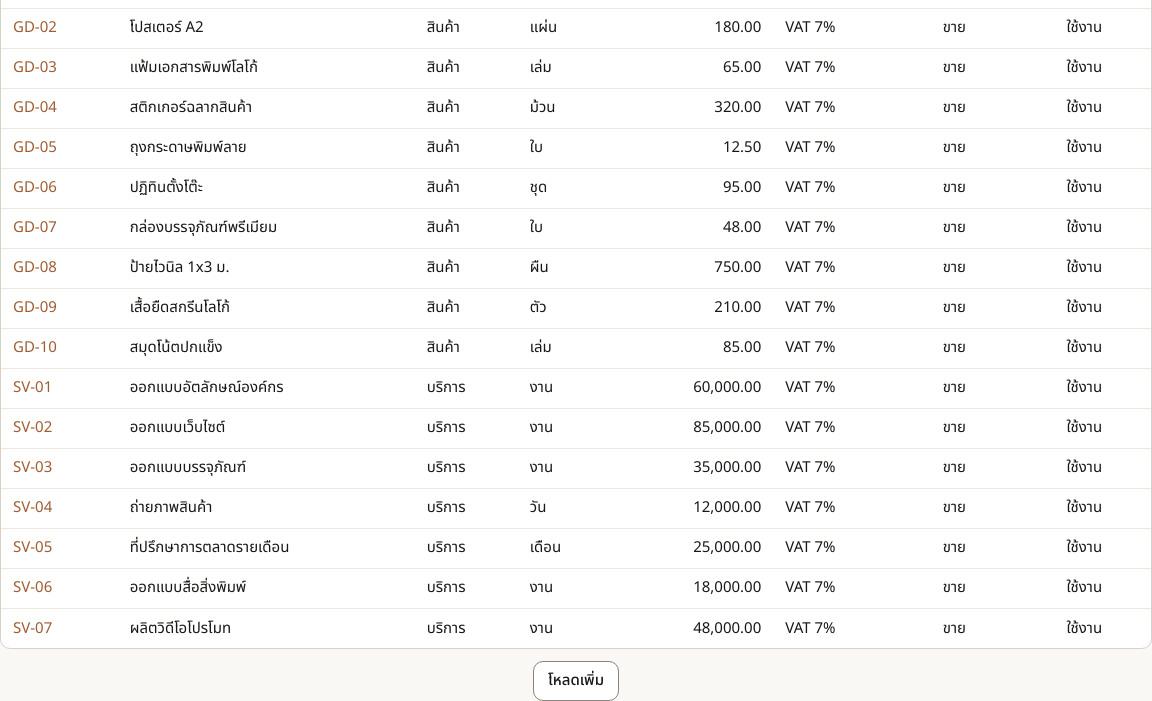
item list and form (a record kind with no detail page) › a 409 in the row dialog: reload fetches the item, keeps the typed values, and the next save carries the fresh version
The image size is (1152, 701).
(page scrolled)
Click the button "SV-03" at (33, 468), box [13,456,52,480]
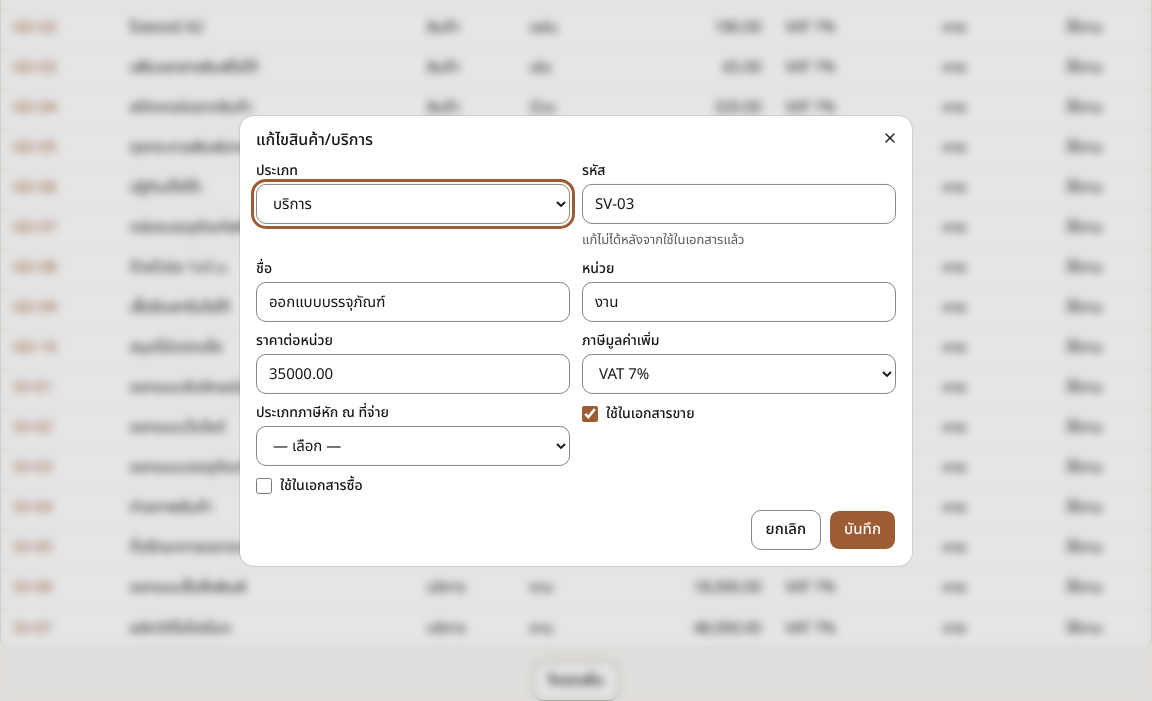
Replace the text in the field labelled "ชื่อ" with "ชื่อที่ฉันพิมพ์" at (413, 302), box [256,282,570,322]
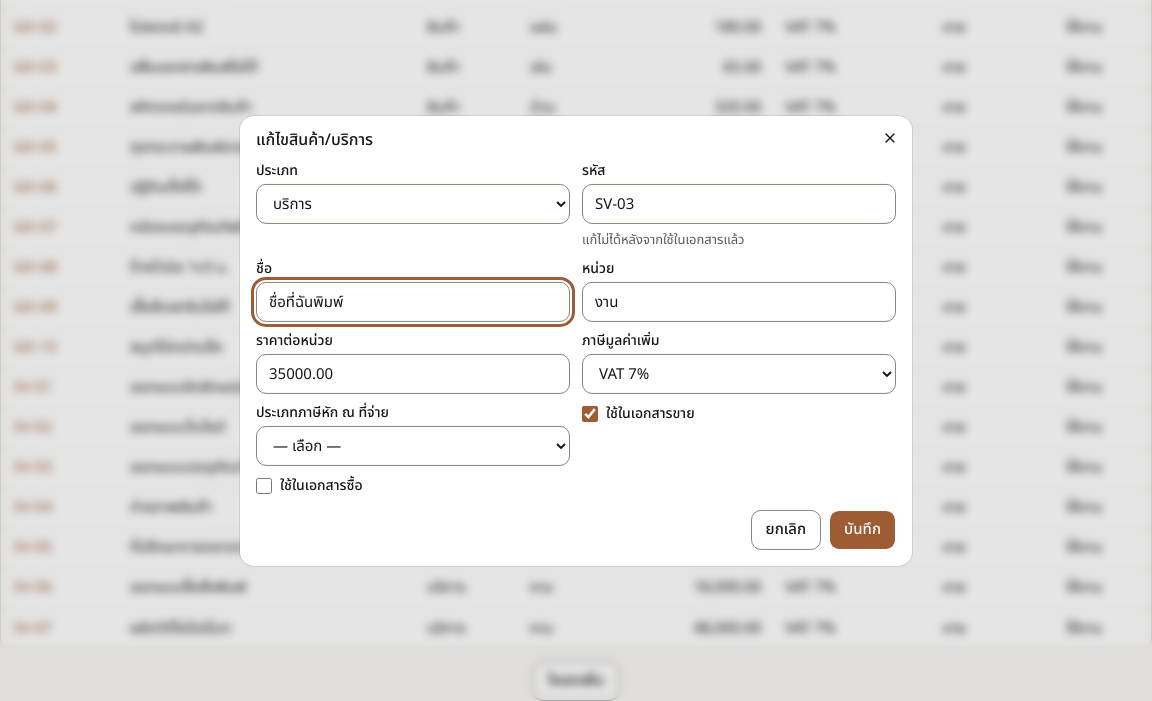
Click the button "บันทึก" at (863, 530), box [829,510,896,550]
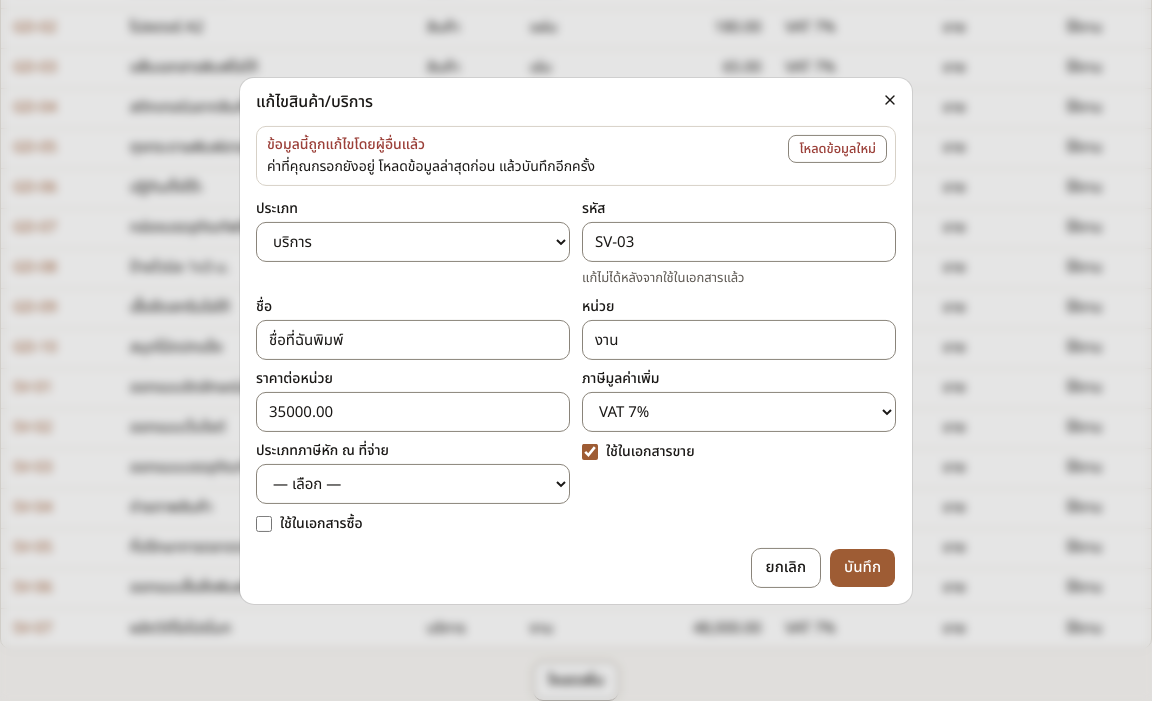
Click the button "โหลดข้อมูลใหม่" at (838, 149), box [788,135,887,163]
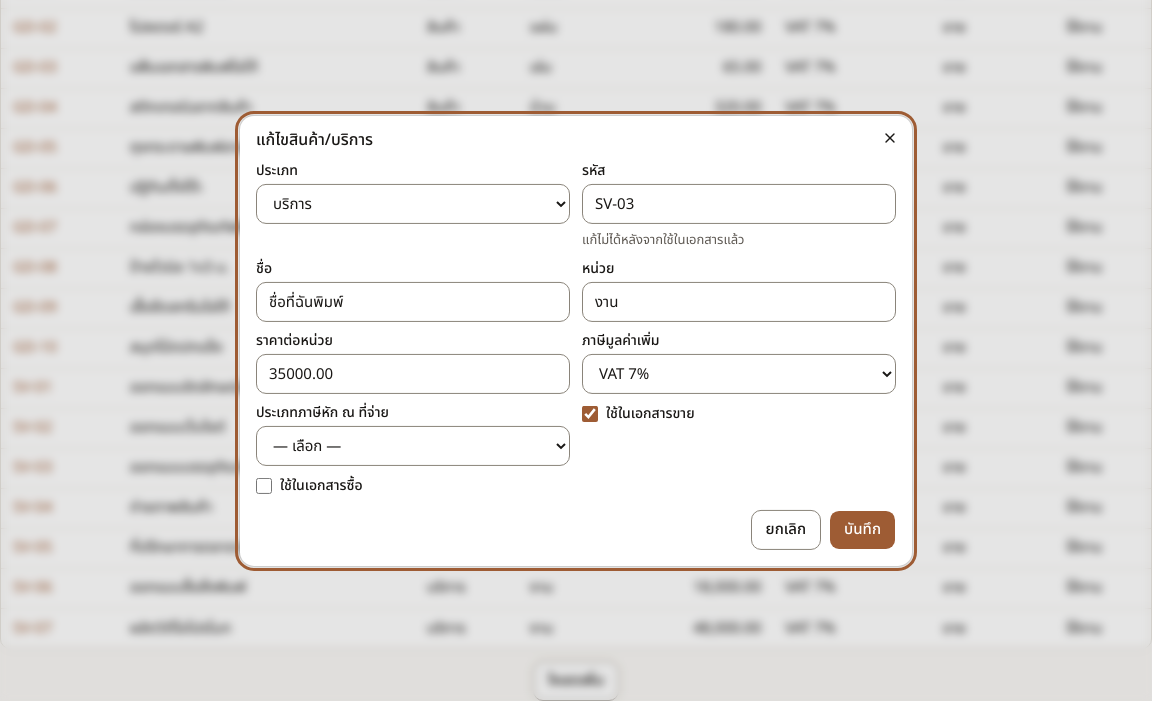
Now the button "โหลดข้อมูลใหม่" is gone
Click the button "บันทึก" at (863, 530), box [829,510,896,550]
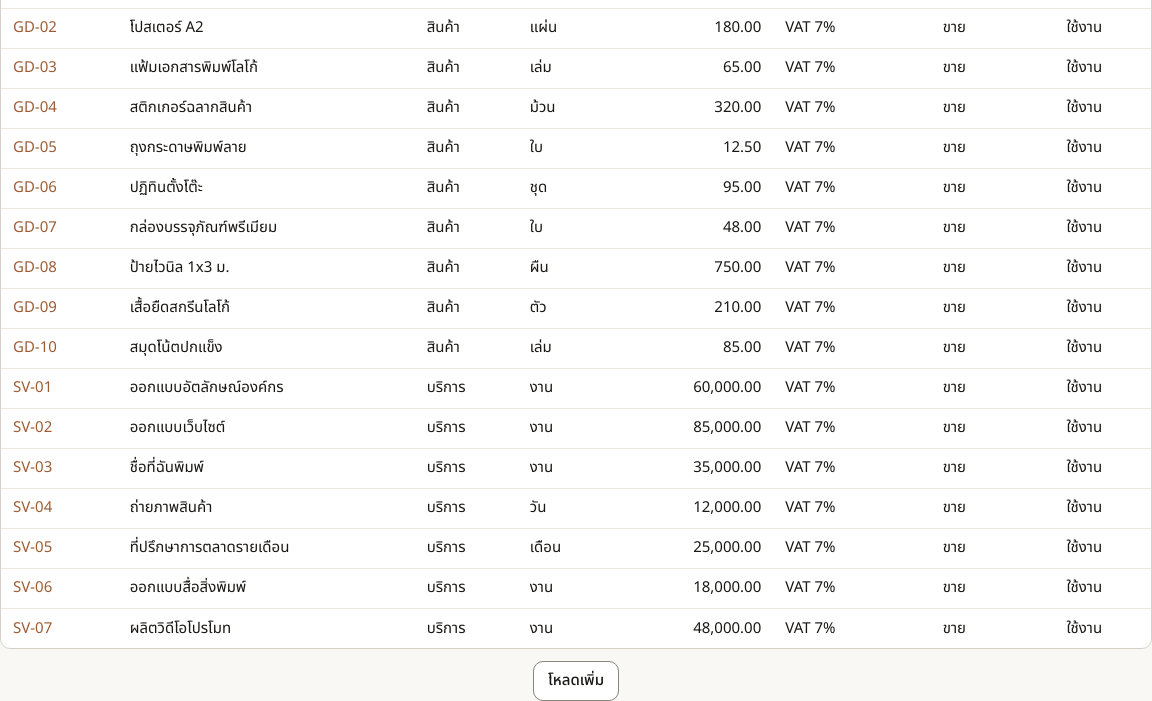
Now the dialog is gone
